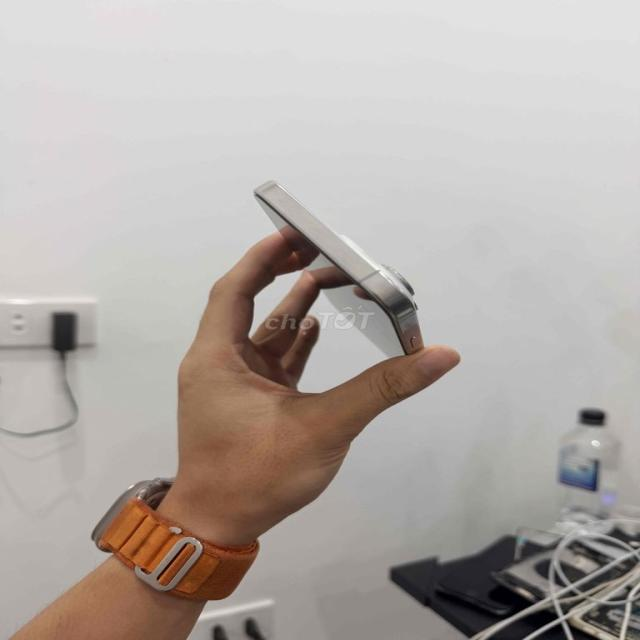gen_16: (247, 171, 437, 370)
